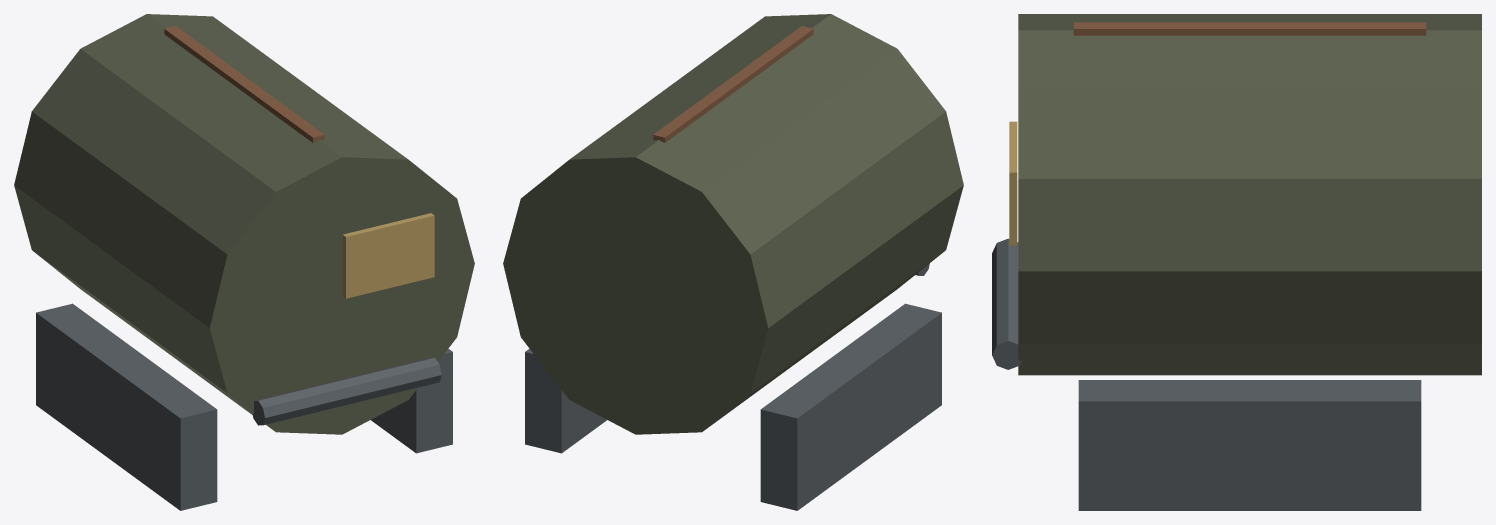
The model's file is fuel_tank.glb.
3 views of the same model, side by side, from view 1: azimuth 30°, elevation 25°; view 2: azimuth 150°, elevation 25°; view 3: azimuth 270°, elevation 25° (orthographic). The views are drawn at different scales.
Parts seen in each view (by area): view 1: drum, saddle0, hazard, pipe, saddle1, band; view 2: drum, saddle0, saddle1, band; view 3: drum, saddle1, band, pipe, hazard.
Boxes of the visible parts, box(x1,y1,x2,y2) form: drum: box(14, 14, 474, 434); saddle0: box(36, 303, 217, 510); hazard: box(342, 213, 434, 298); pipe: box(252, 357, 441, 425); saddle1: box(371, 349, 452, 453); band: box(164, 26, 324, 142); drum: box(503, 14, 963, 434); saddle0: box(760, 303, 941, 510); saddle1: box(525, 349, 606, 453); band: box(653, 26, 813, 142); drum: box(1018, 14, 1481, 375); saddle1: box(1078, 380, 1421, 510); band: box(1073, 22, 1426, 35); pipe: box(992, 238, 1021, 369); hazard: box(1009, 121, 1017, 245).
Size of the model in its own units: 3.7 by 4.45 by 4.86.
